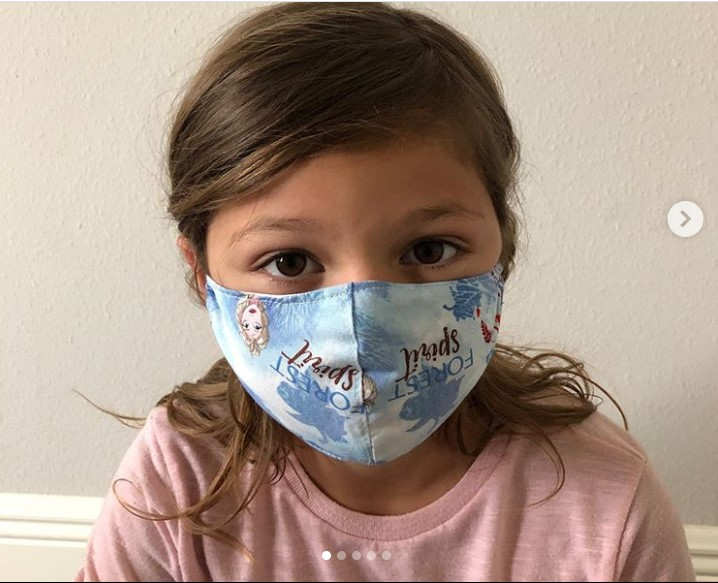face_with_mask: (182, 20, 519, 466)
